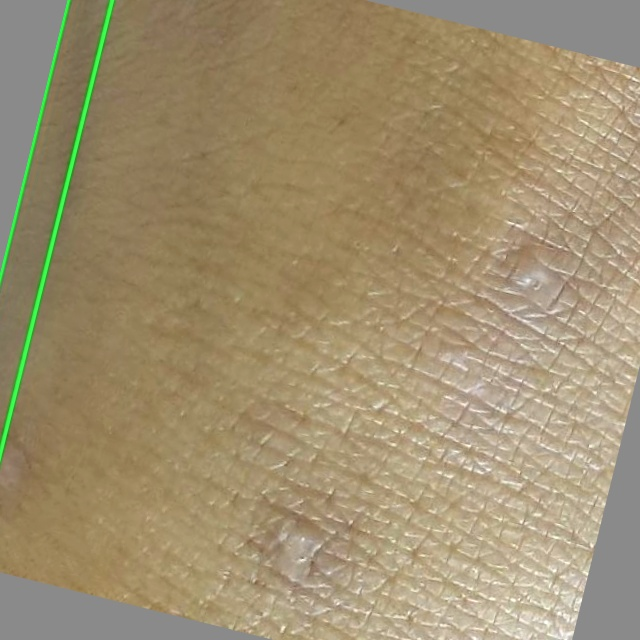Scabies: (0, 0, 112, 453)
